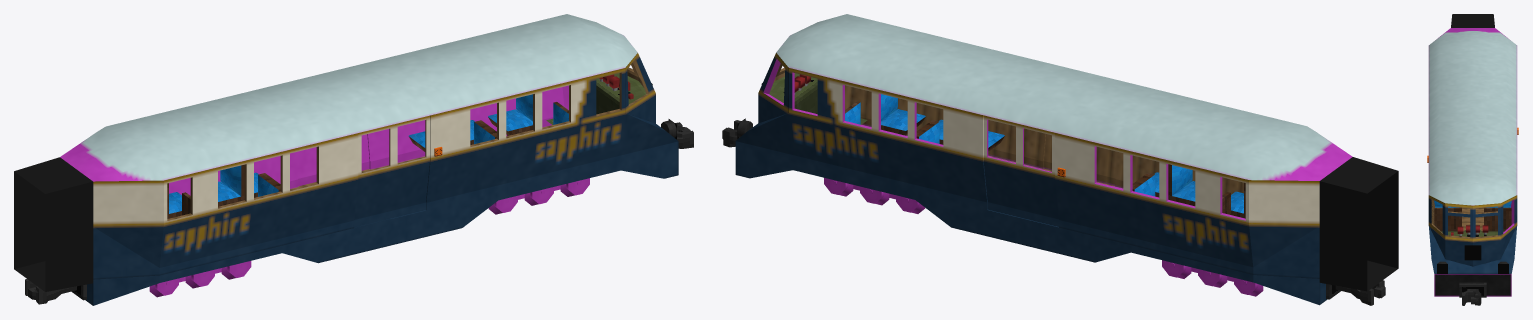
The model's file is sapphire_express_coach_pushpull.obj.
3 renders of one model, left to right at view 1: azimuth 30°, elevation 25°; view 2: azimuth 150°, elevation 25°; view 3: azimuth 270°, elevation 25°, orthographic. The views are drawn at different scales.
Parts seen in each view (by area): view 1: FRAME_ext_roof, FRAME_ext_body.002, FRAME_ext_body.001, connector.001, FRAME_int_body.001, DOOR_6_CG_doorleft_NOTOUCH, DOOR_5_CG_doorleft_NOTOUCH, FRAME_int_body.002, bench.007, controls.001, bench.001, DOOR_3_NOTOUCH_EXTERNAL (+1 smaller); view 2: FRAME_ext_roof, FRAME_ext_body.002, FRAME_ext_body.001, connector.001, FRAME_int_body.001, DOOR_4_CG_doorright_NOTOUCH, DOOR_3_CG_doorright_NOTOUCH, FRAME_int_body.002, bench.006, bench.008, controls.001, DOOR_5_NOTOUCH_EXTERNAL (+1 smaller); view 3: FRAME_ext_roof, FRAME_ext_body.001, connector.001, bench.008, bench.001, FRAME_int_body.001, COUPLER_ENGAGED_REAR_2_TOGGLE_LABEL_Uncouple, COUPLED_REAR_4_HIDE_INVERT, FRAME_int_floor, HEADLIGHT_4_0xFFF0E1_LCG_REVERSERBACKWARD, controls.001, HEADLIGHT_6_0xFF0000_LCG_REVERSERFORWARD (+1 smaller).
Part boxes in pixels (left/top/right/bottom): FRAME_ext_roof: left=60, top=14, right=637, bottom=181; FRAME_ext_body.002: left=85, top=133, right=390, bottom=305; FRAME_ext_body.001: left=390, top=53, right=678, bottom=245; connector.001: left=14, top=157, right=93, bottom=291; FRAME_int_body.001: left=367, top=59, right=649, bottom=169; DOOR_6_CG_doorleft_NOTOUCH: left=390, top=115, right=429, bottom=218; DOOR_5_CG_doorleft_NOTOUCH: left=354, top=124, right=393, bottom=227; FRAME_int_body.002: left=167, top=146, right=318, bottom=220; bench.007: left=218, top=164, right=258, bottom=206; controls.001: left=596, top=73, right=646, bottom=114; bench.001: left=488, top=94, right=532, bottom=135; DOOR_3_NOTOUCH_EXTERNAL: left=296, top=147, right=316, bottom=186; FRAME_ext_roof: left=776, top=14, right=1352, bottom=180; FRAME_ext_body.002: left=1023, top=133, right=1327, bottom=305; FRAME_ext_body.001: left=735, top=53, right=1023, bottom=244; connector.001: left=1319, top=157, right=1398, bottom=291; FRAME_int_body.001: left=763, top=59, right=1045, bottom=168; DOOR_4_CG_doorright_NOTOUCH: left=983, top=115, right=1023, bottom=218; DOOR_3_CG_doorright_NOTOUCH: left=1019, top=124, right=1058, bottom=226; FRAME_int_body.002: left=1094, top=146, right=1245, bottom=220; bench.006: left=1154, top=164, right=1195, bottom=206; bench.008: left=881, top=94, right=925, bottom=135; controls.001: left=769, top=73, right=817, bottom=113; DOOR_5_NOTOUCH_EXTERNAL: left=1096, top=147, right=1117, bottom=185; FRAME_ext_roof: left=1428, top=28, right=1517, bottom=205; FRAME_ext_body.001: left=1428, top=195, right=1517, bottom=296; connector.001: left=1451, top=14, right=1494, bottom=27; bench.008: left=1434, top=207, right=1461, bottom=231; bench.001: left=1484, top=207, right=1511, bottom=231; FRAME_int_body.001: left=1431, top=199, right=1514, bottom=238; COUPLER_ENGAGED_REAR_2_TOGGLE_LABEL_Uncouple: left=1459, top=282, right=1486, bottom=297; COUPLED_REAR_4_HIDE_INVERT: left=1462, top=289, right=1481, bottom=305; FRAME_int_floor: left=1462, top=207, right=1483, bottom=231; HEADLIGHT_4_0xFFF0E1_LCG_REVERSERBACKWARD: left=1464, top=245, right=1481, bottom=260; controls.001: left=1441, top=231, right=1504, bottom=236; HEADLIGHT_6_0xFF0000_LCG_REVERSERFORWARD: left=1498, top=264, right=1508, bottom=273.
Size of the model in its own units: 11.44 by 2.56 by 2.06.
Materials: 9 (9 with a texture image).
